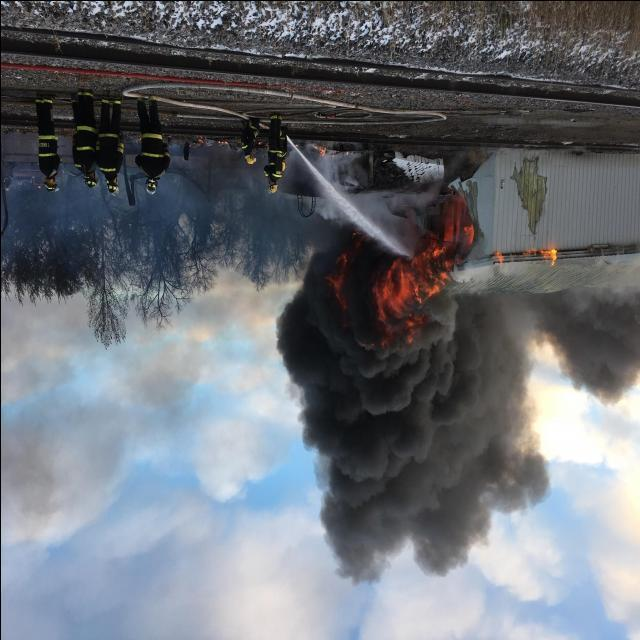Fire: (326, 178, 498, 378)
